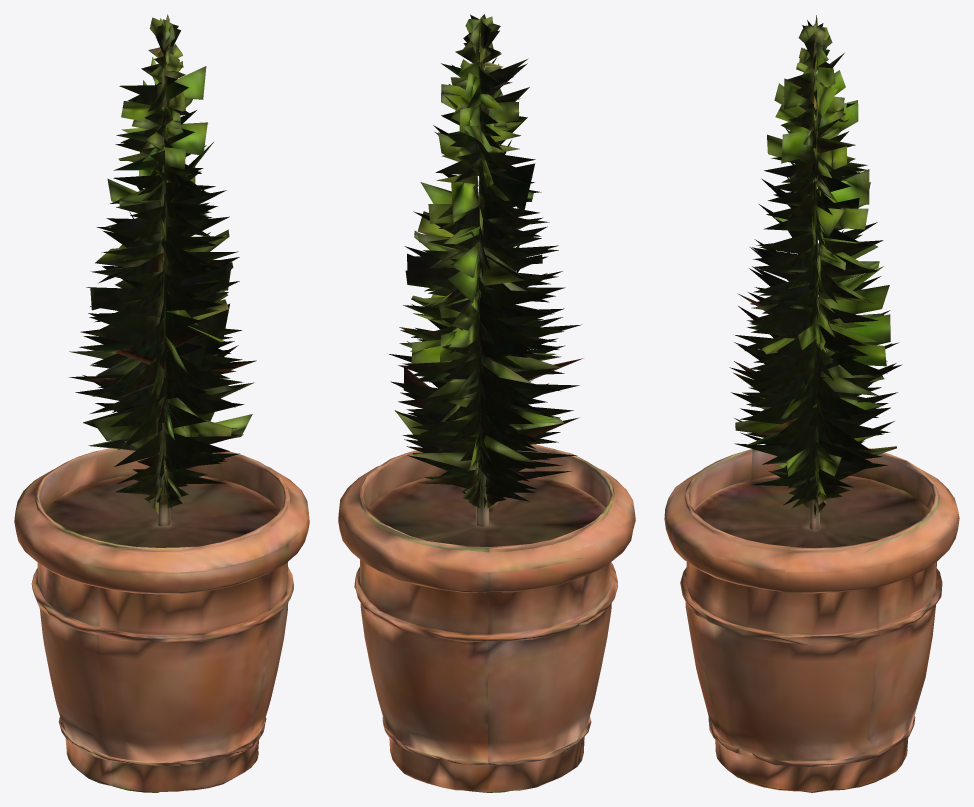
File: kit_planter_cypress.glb
3 renders of one model, left to right at view 1: azimuth 30°, elevation 25°; view 2: azimuth 150°, elevation 25°; view 3: azimuth 270°, elevation 25°, orthographic.
Visible parts, largest first — view 1: mesh_node; view 2: mesh_node; view 3: mesh_node.
Boxes of the visible parts, x1,y1,x2,y2 form: mesh_node: [14, 14, 309, 792]; mesh_node: [338, 14, 635, 792]; mesh_node: [664, 15, 959, 792].
Bounding box in the file's own units: 0.00548 × 0.015 × 0.00546.
Materials: 1 (1 with a texture image).
